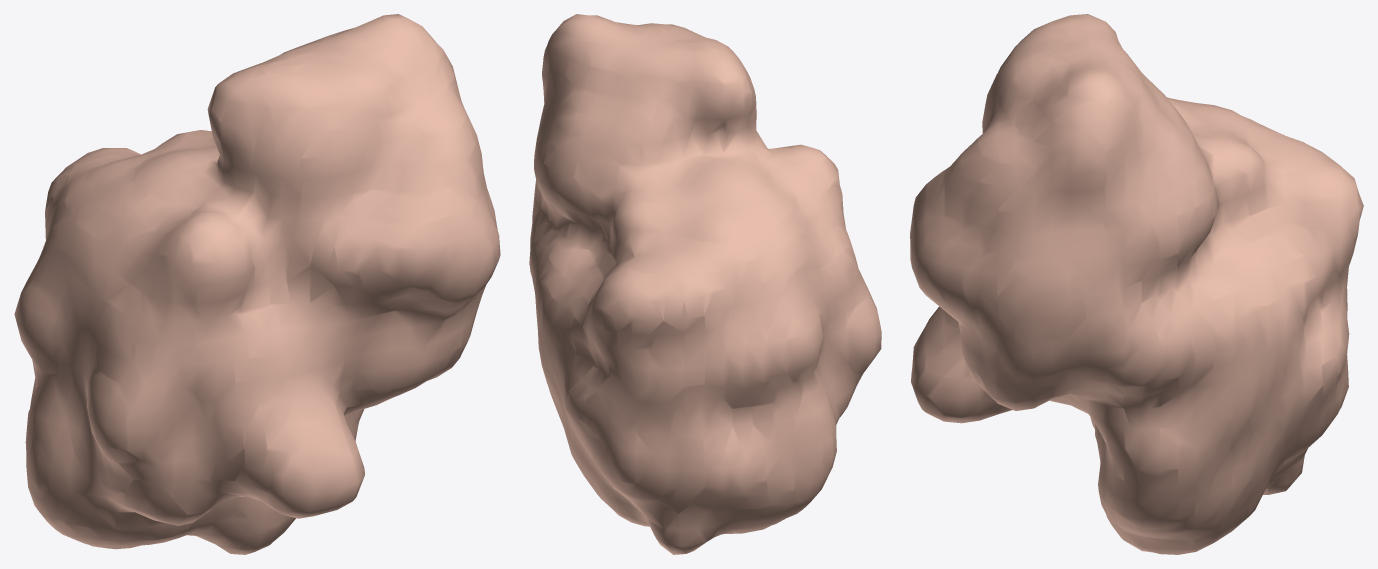
The model's file is i1smd_56kD_2.dae.
3 views of the same model, side by side, from view 1: azimuth 30°, elevation 25°; view 2: azimuth 150°, elevation 25°; view 3: azimuth 270°, elevation 25° (orthographic). The views are drawn at different scales.
Visible parts, largest first — view 1: CoarseMS_1smd; view 2: CoarseMS_1smd; view 3: CoarseMS_1smd.
Part boxes in pixels (box(x1,y1,x2,y2)): CoarseMS_1smd: box(14, 14, 500, 554); CoarseMS_1smd: box(529, 14, 881, 554); CoarseMS_1smd: box(910, 14, 1363, 554).
Bounding box in the file's own units: 58.03 × 75.55 × 58.29.
